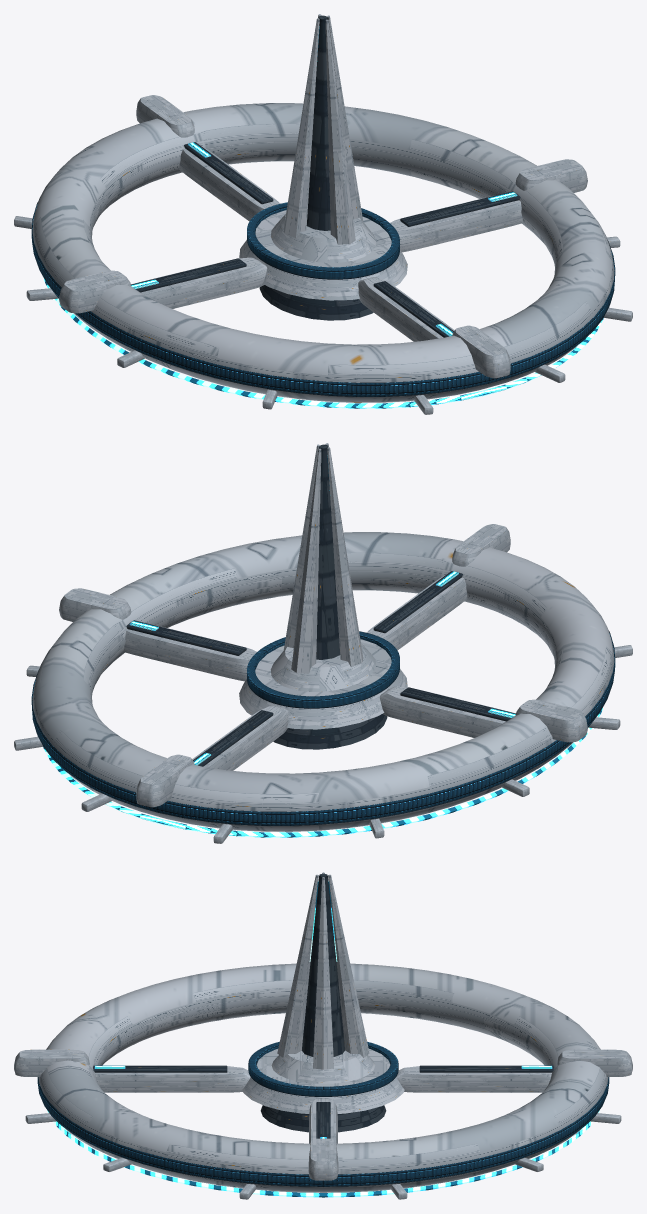
File: alliance_starbase.glb
3 views of the same model, one above another, from view 1: azimuth 30°, elevation 25°; view 2: azimuth 150°, elevation 25°; view 3: azimuth 270°, elevation 25° (orthographic). The views are drawn at different scales.
Parts seen in each view (by area): view 1: alliance_starbase_lod_source; view 2: alliance_starbase_lod_source; view 3: alliance_starbase_lod_source.
Part boxes in pixels (bbox=[...]): alliance_starbase_lod_source: bbox=[14, 14, 632, 414]; alliance_starbase_lod_source: bbox=[14, 443, 632, 843]; alliance_starbase_lod_source: bbox=[14, 872, 632, 1199].
Bounding box in the file's own units: 28.46 × 14.33 × 34.08.
Materials: 1 (1 with a texture image).
